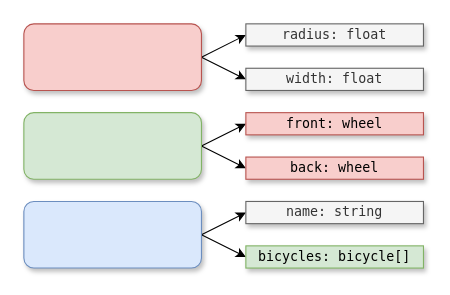
Image size: 450x295. Some labels were removed from this diagram. Each missing label, with the centre of its shape:
"bicycle" belongs at pixel 113 147.
"person" belongs at pixel 113 236.
"wheel" belongs at pixel 113 58.
